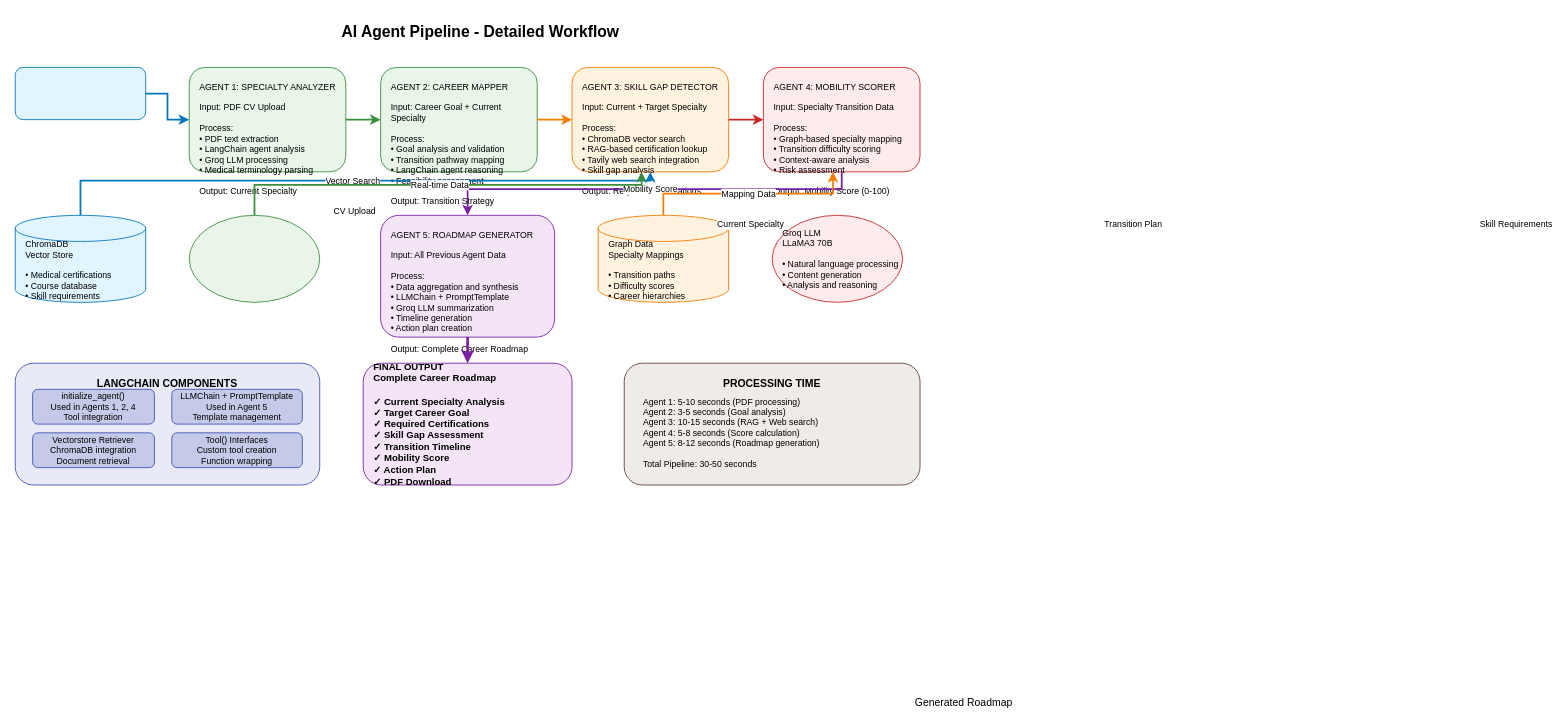
Image size: 1567x723. Some labels were removed from this diagram. The centre of each missing label's shape, as x and y in pixels:
"MEDICAL PROFESSIONAL INPUT" goes at point 80,93.
"Web Search Tavily API • Real-time data • Latest certifications • Industry trends" goes at point 254,258.
